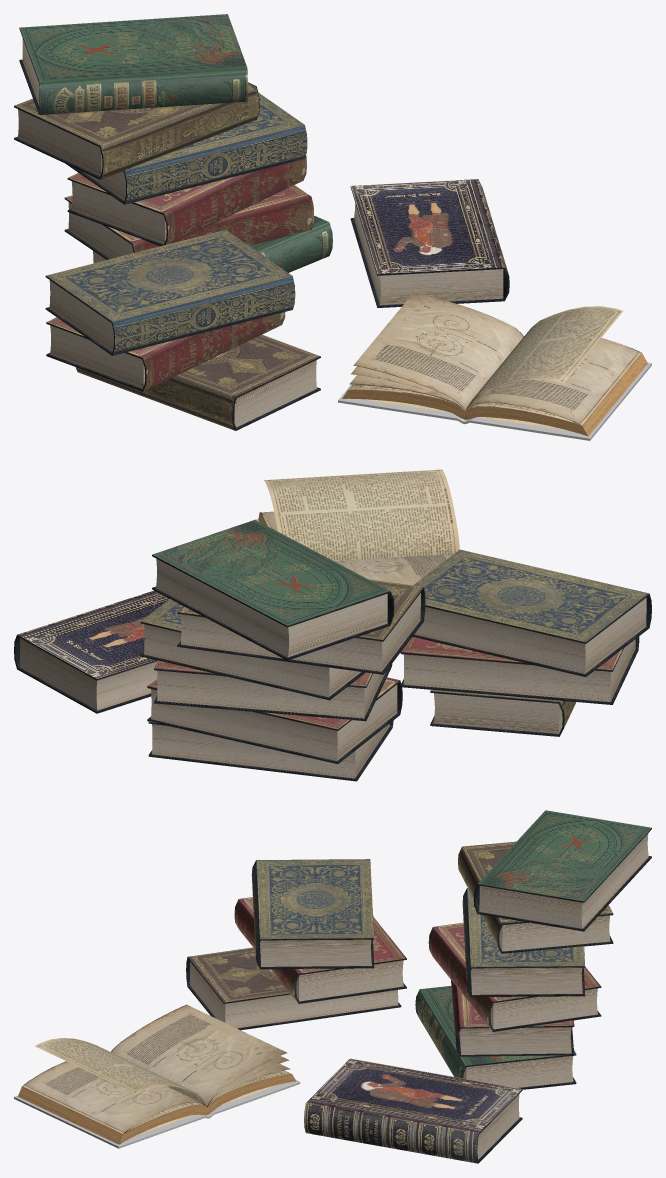
The model's file is Books_old_FBX.fbx.
3 renders of one model, top to bottom at view 1: azimuth 30°, elevation 25°; view 2: azimuth 150°, elevation 25°; view 3: azimuth 270°, elevation 25°, orthographic. The views are drawn at different scales.
Parts seen in each view (by area): view 1: Books_old; view 2: Books_old; view 3: Books_old.
Boxes of the visible parts, x1=… form: Books_old: x1=14, y1=14, x2=651, y2=440; Books_old: x1=14, y1=469, x2=651, y2=781; Books_old: x1=14, y1=810, x2=651, y2=1163.
Bounding box in the file's own units: 34.81 × 13.34 × 42.44.
